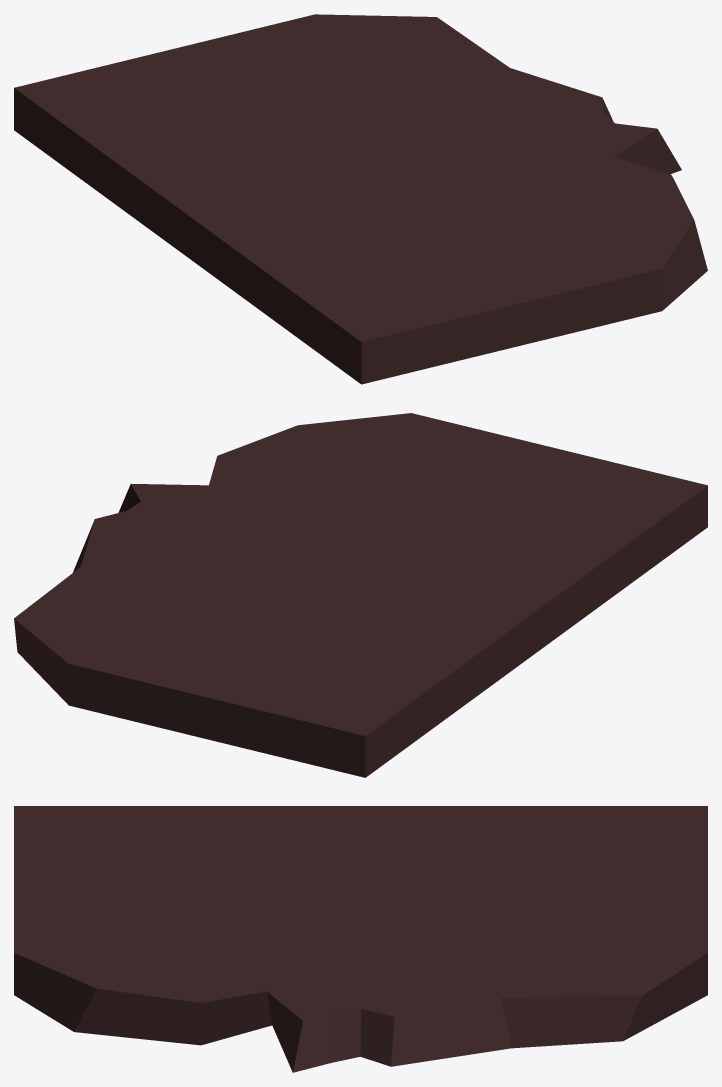
3 renders of one model, top to bottom at view 1: azimuth 30°, elevation 25°; view 2: azimuth 150°, elevation 25°; view 3: azimuth 270°, elevation 25°, orthographic.
Visible parts, largest first — view 1: TS5; view 2: TS5; view 3: TS5.
Boxes of the visible parts, left/top/right/bottom form: TS5: left=14, top=14, right=707, bottom=384; TS5: left=14, top=413, right=707, bottom=777; TS5: left=14, top=806, right=707, bottom=1072.
Bounding box in the file's own units: 153 × 13.48 × 200.
